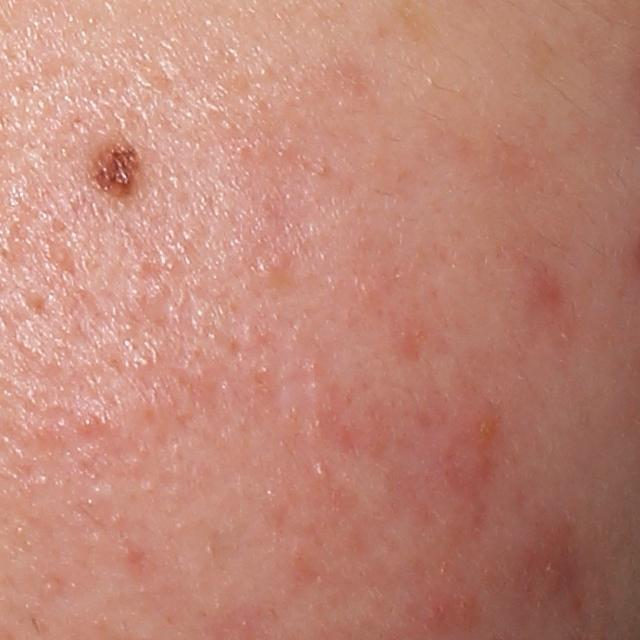comedo: (310, 461, 333, 486), (75, 414, 96, 437)
nevus: (84, 125, 156, 211)
